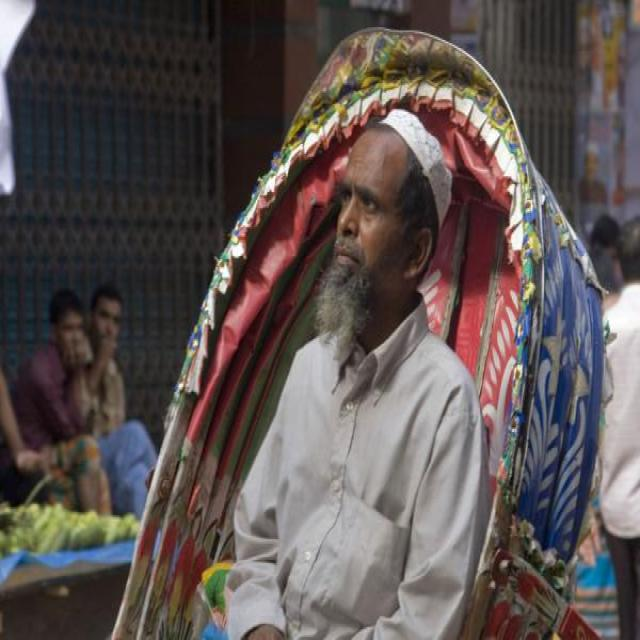Rickshaw: (93, 1, 636, 640)
